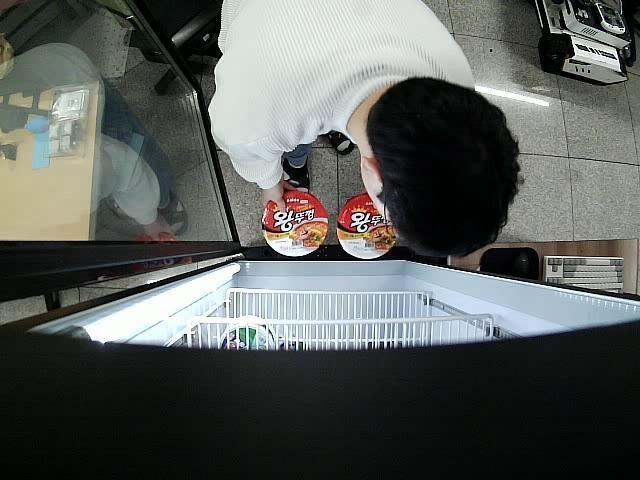10_wangTtukkeong: (263, 192, 328, 258)
